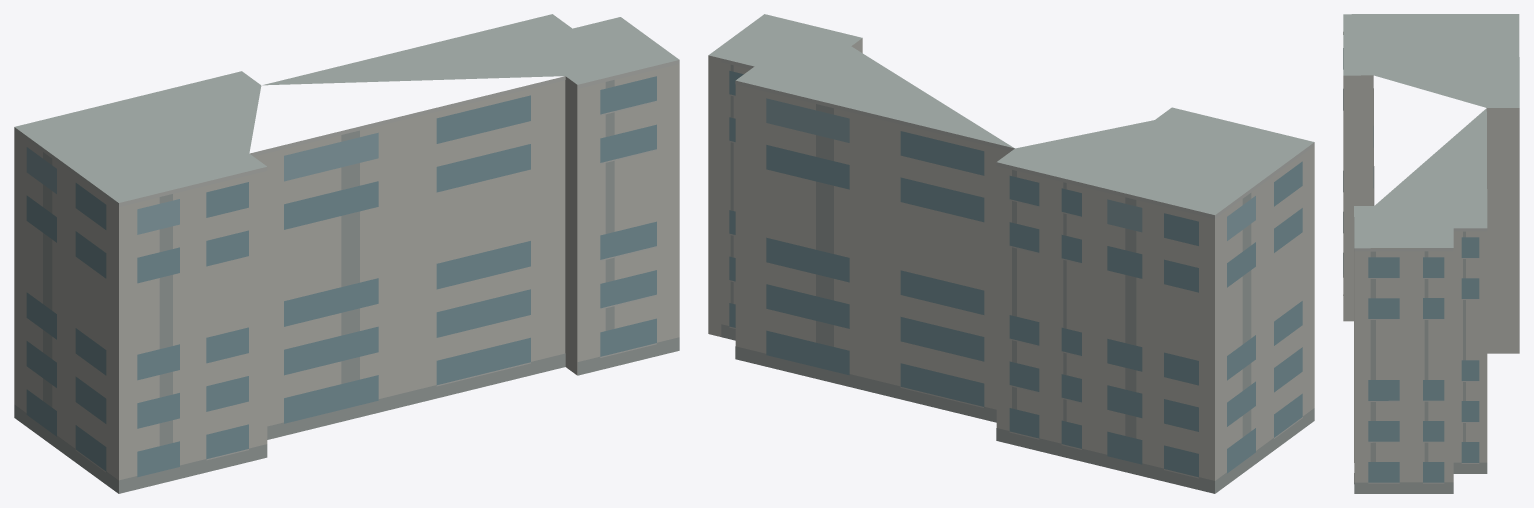
Rendered from survey-upis-32758750.glb.
3 renders of one model, left to right at view 1: azimuth 30°, elevation 25°; view 2: azimuth 150°, elevation 25°; view 3: azimuth 270°, elevation 25°, orthographic. The views are drawn at different scales.
Parts seen in each view (by area): view 1: survey-upis-32758750.tmp; view 2: survey-upis-32758750.tmp; view 3: survey-upis-32758750.tmp.
Boxes of the visible parts, bbox=[...] form: survey-upis-32758750.tmp: bbox=[14, 14, 679, 493]; survey-upis-32758750.tmp: bbox=[708, 14, 1314, 493]; survey-upis-32758750.tmp: bbox=[1343, 14, 1519, 493].
Bounding box in the file's own units: 36.22 × 17.72 × 11.55.
